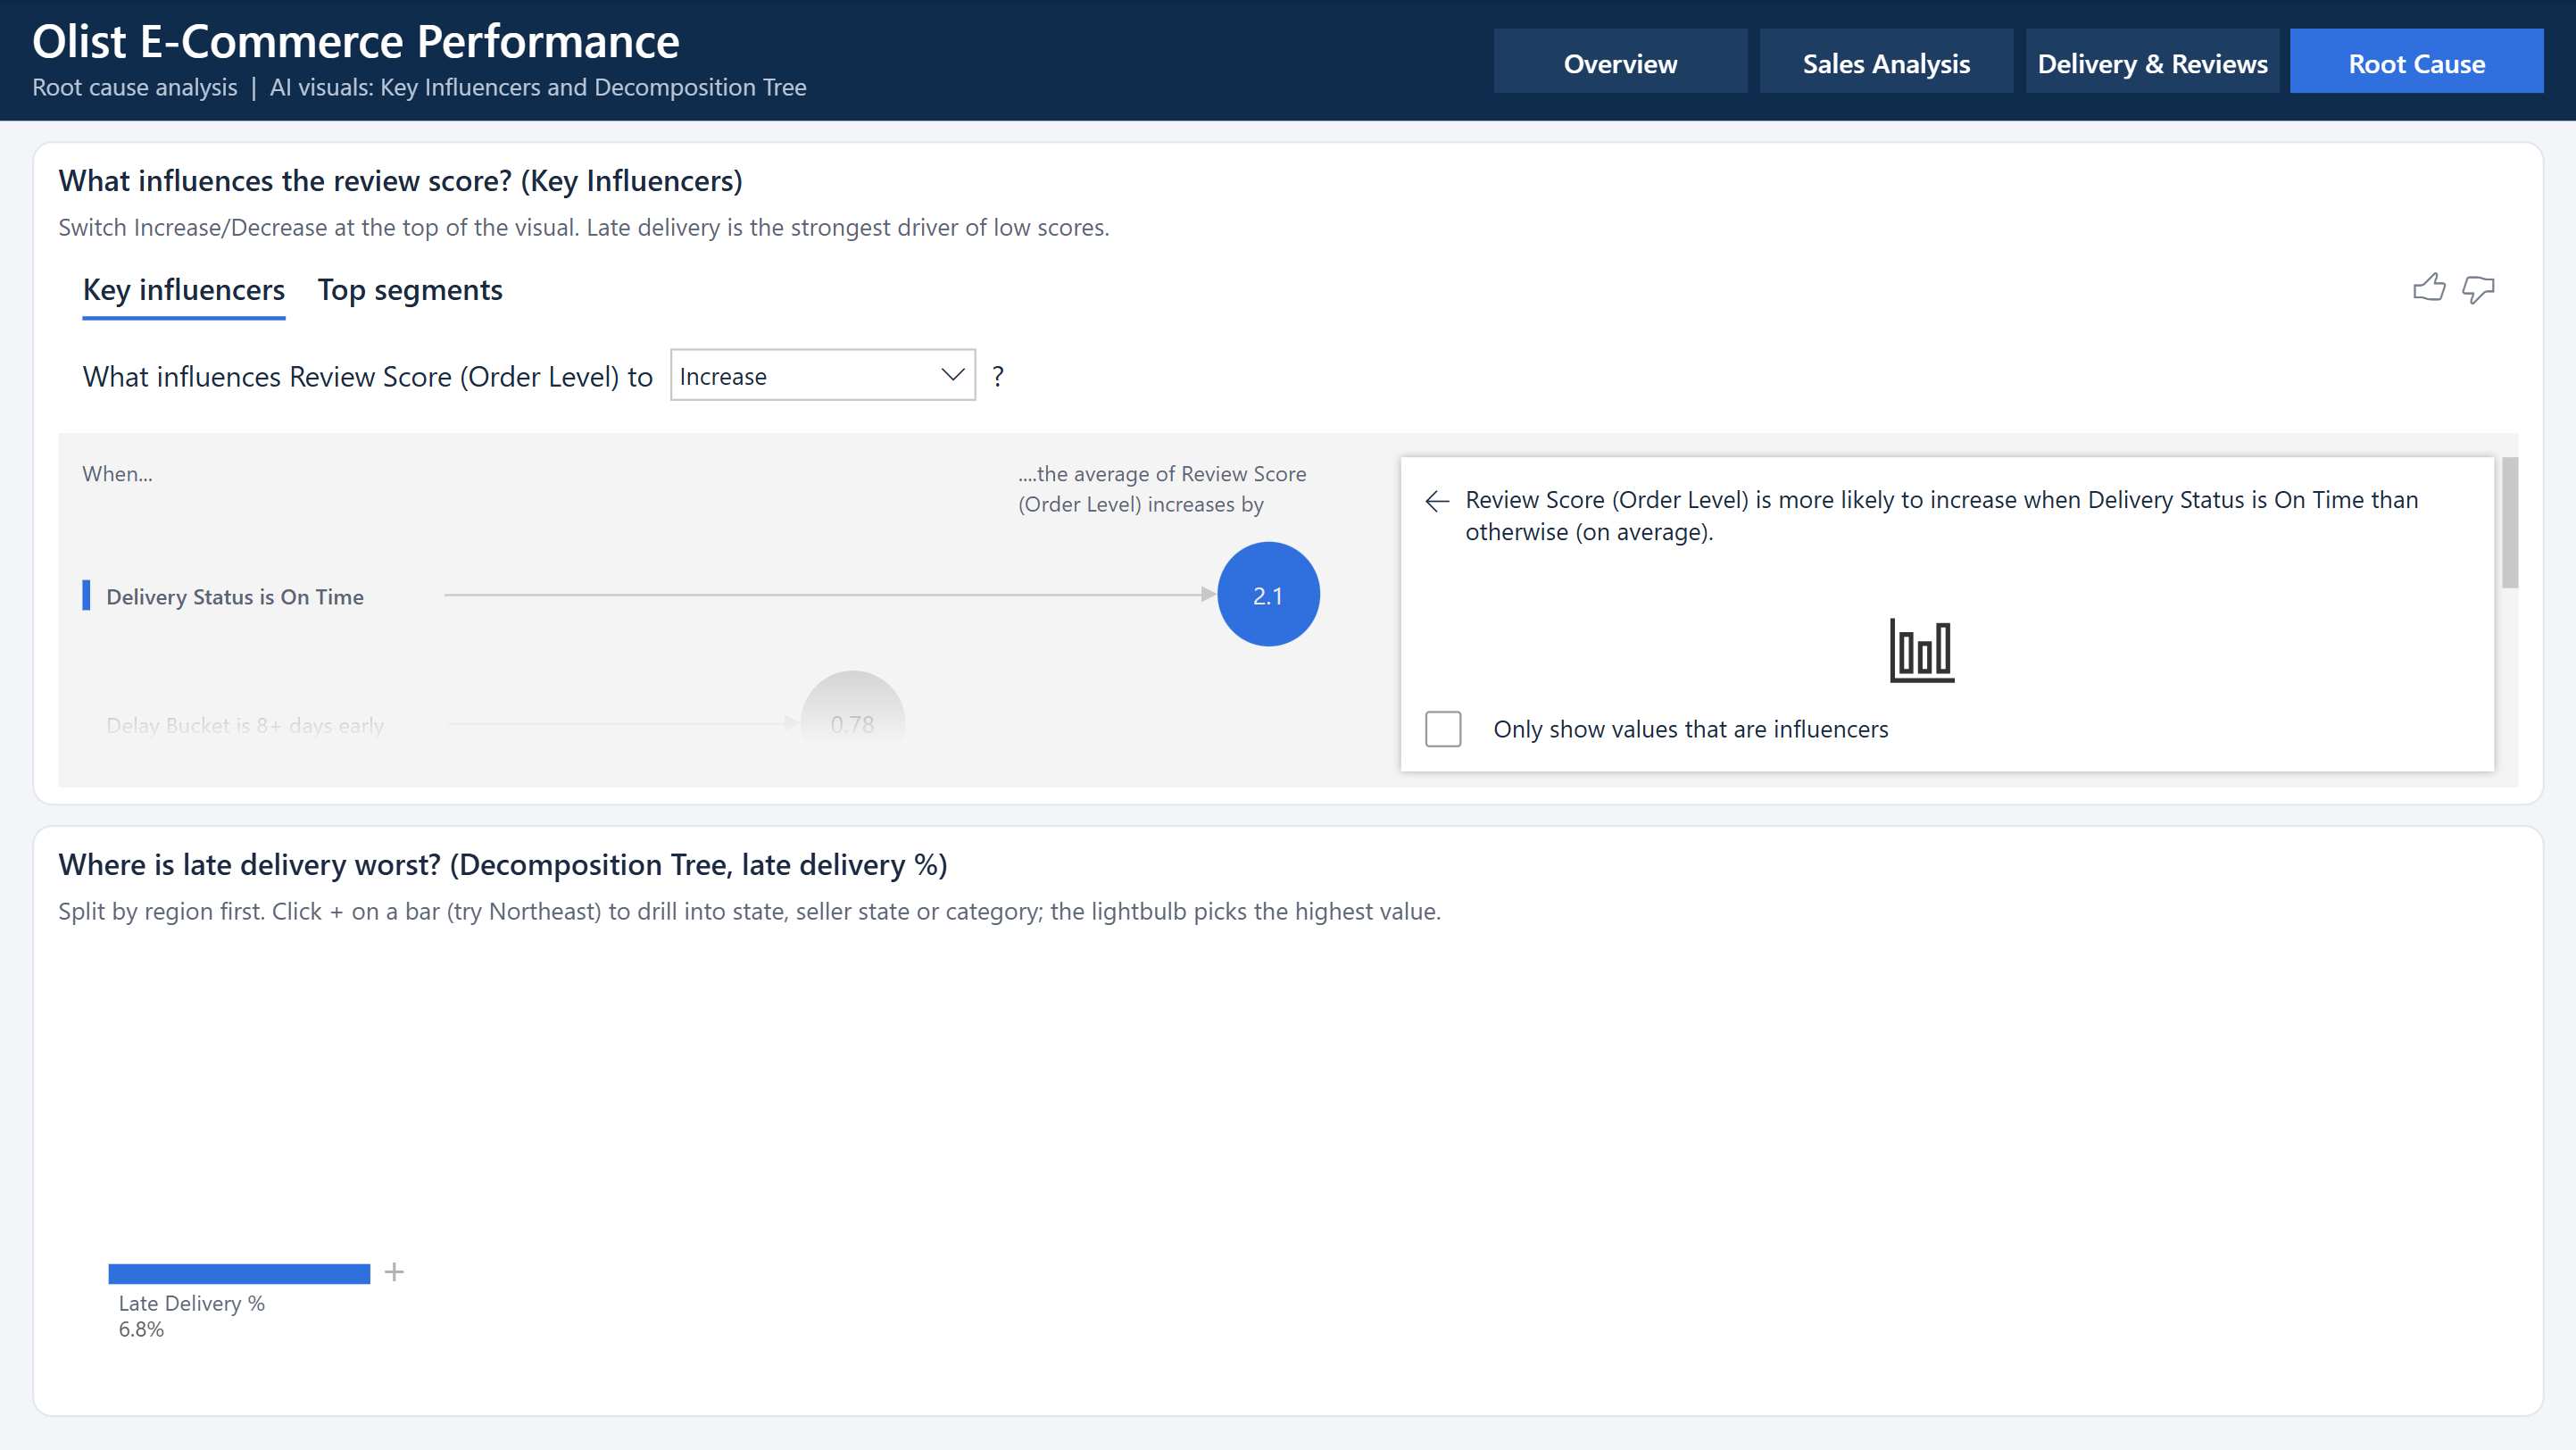

The dashboard page shown, as its layout file describes it:
{"tool":"powerbi","page":{"name":"Root Cause","canvas":[1280,720],"ordinal":3},"visuals":[{"type":"shape","box":[0,0,1280,60],"z":9500},{"type":"textbox","box":[16,4,620,54],"z":9600},{"type":"actionButton","box":[742,14,126,32],"z":9700},{"type":"actionButton","box":[874,14,126,32],"z":9800},{"type":"actionButton","box":[1006,14,126,32],"z":9900},{"type":"actionButton","box":[1138,14,126,32],"z":10000},{"type":"keyDriversVisual","title":"What influences the review score? (Key Influencers)","fields":{"Details":["Orders.Order ID"],"ExplainBy":["Orders.Delivery Status","Orders.Delay Bucket","Orders.Delivery Days","Orders.Items","Orders.Order Freight","Orders.Payment Type","Orders.Installments","Customer.Region"],"Target":["_Measures.Review Score (Order Level)"]},"box":[16,70,1248,330],"z":10100},{"type":"decompositionTreeVisual","title":"Where is late delivery worst? (Decomposition Tree, late delivery %)","fields":{"Analyze":["_Measures.Late Delivery %"],"ExplainBy":["Customer.Region","Customer.State Name","Seller.State Name","Product.Category Group","Product.Category","Orders.Payment Type"]},"box":[16,410,1248,294],"z":10200}]}

Visuals, with their boxes in screenshot pixels (x1, y1, x2, y2), scaled from the page's 1280x720 canvas onto the 2576x1450 screenshot:
shape: l=0, t=0, r=2575, b=121
textbox: l=32, t=8, r=1280, b=117
actionButton: l=1493, t=29, r=1747, b=93
actionButton: l=1759, t=29, r=2013, b=93
actionButton: l=2024, t=29, r=2278, b=93
actionButton: l=2290, t=29, r=2544, b=93
"What influences the review score? (Key Influencers)" keyDriversVisual: l=32, t=141, r=2544, b=805
"Where is late delivery worst? (Decomposition Tree, late delivery %)" decompositionTreeVisual: l=32, t=826, r=2544, b=1418
